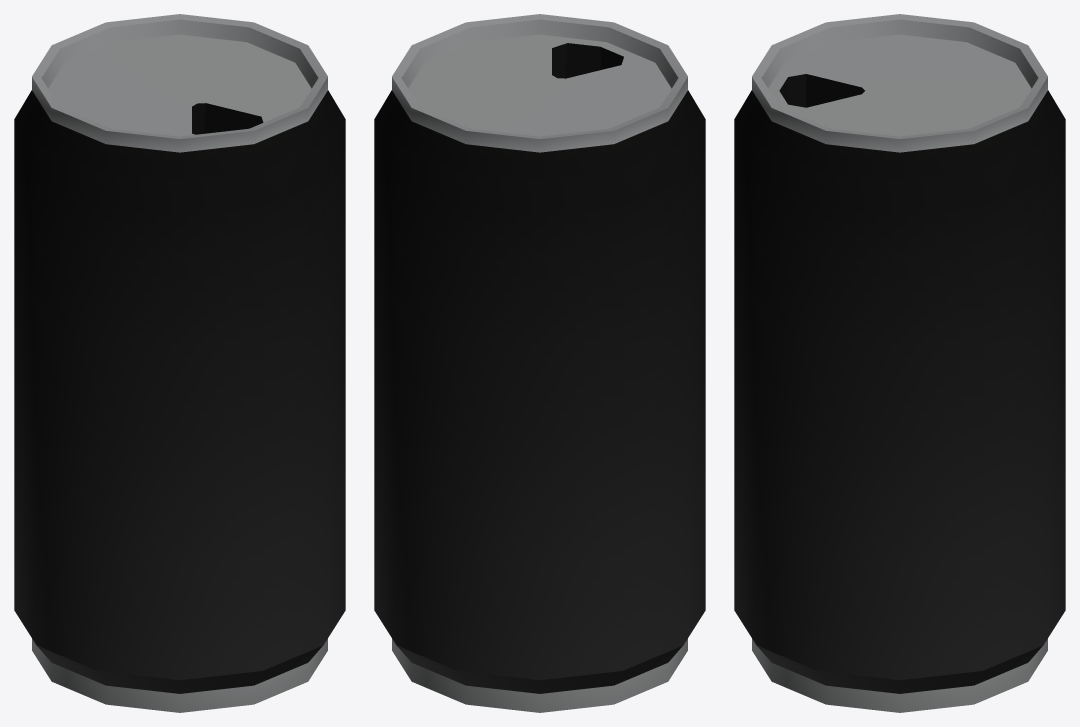
The model's file is Can_Taurine.fbx.
3 renders of one model, left to right at view 1: azimuth 30°, elevation 25°; view 2: azimuth 150°, elevation 25°; view 3: azimuth 270°, elevation 25°, orthographic.
Visible parts, largest first — view 1: Can_Taurine; view 2: Can_Taurine; view 3: Can_Taurine.
Part boxes in pixels (x1=…): Can_Taurine: x1=14, y1=14, x2=345, y2=712; Can_Taurine: x1=374, y1=14, x2=705, y2=712; Can_Taurine: x1=734, y1=14, x2=1065, y2=712.
Bounding box in the file's own units: 9.25 × 17.65 × 9.25.
